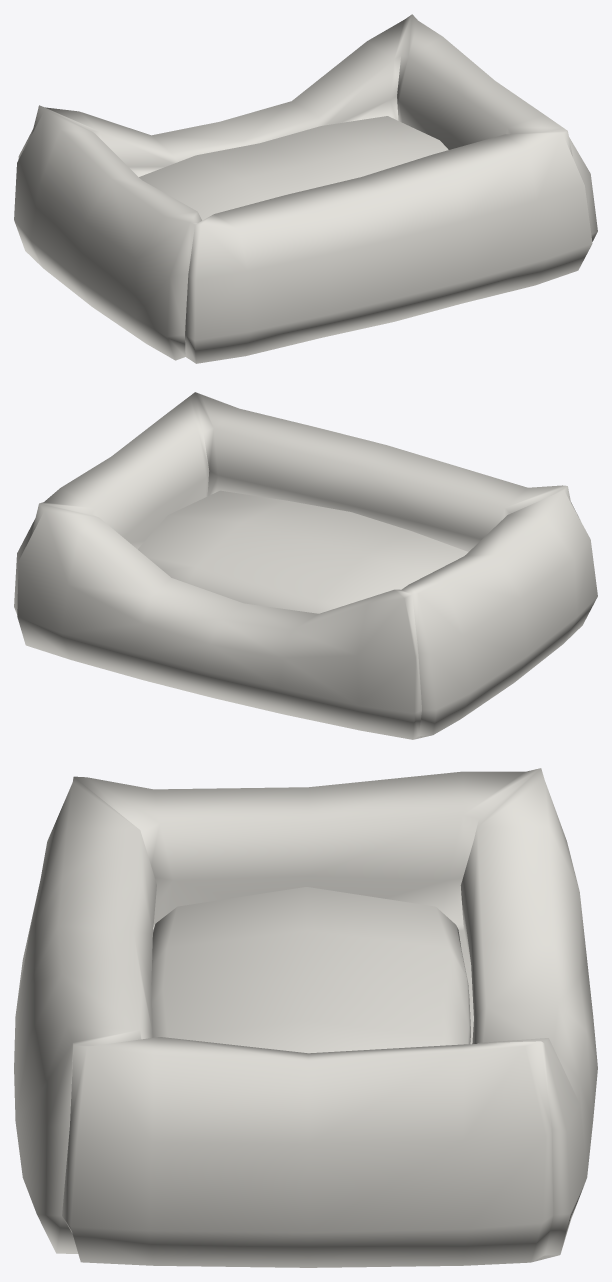
The model's file is bed-4.glb.
3 renders of one model, top to bottom at view 1: azimuth 30°, elevation 25°; view 2: azimuth 150°, elevation 25°; view 3: azimuth 270°, elevation 25°, orthographic. The views are drawn at different scales.
Parts seen in each view (by area): view 1: Standard.12, Standard.13; view 2: Standard.12, Standard.13; view 3: Standard.12, Standard.13.
Part boxes in pixels (bbox=[...]): Standard.12: bbox=[14, 14, 597, 363]; Standard.13: bbox=[139, 116, 448, 220]; Standard.12: bbox=[14, 392, 597, 739]; Standard.13: bbox=[138, 490, 468, 613]; Standard.12: bbox=[14, 768, 597, 1267]; Standard.13: bbox=[151, 887, 470, 1053].
Size of the model in its own units: 0.0315 by 0.00945 by 0.0237.
2 materials, 2 textured.
